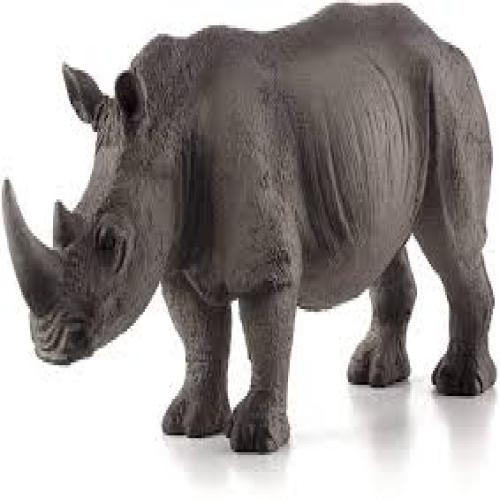rhino-endangered: (5, 4, 494, 454)
